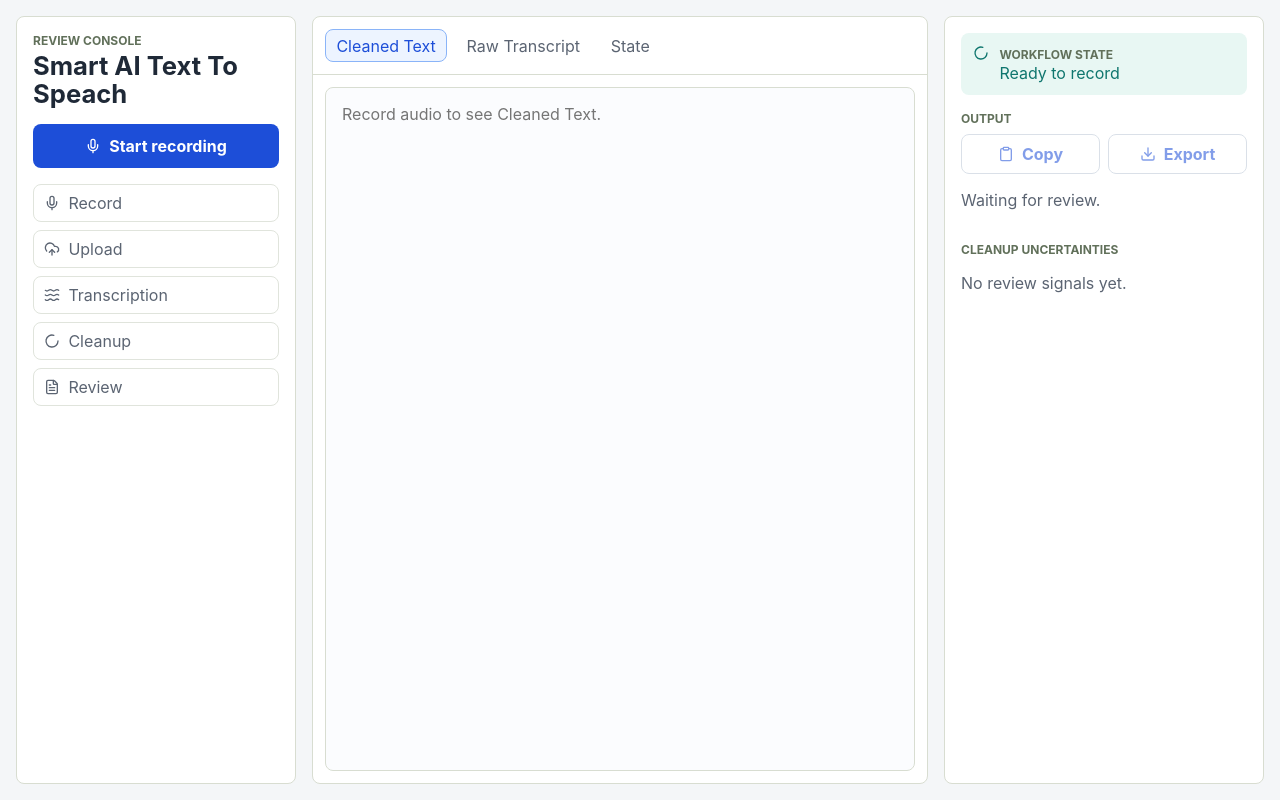
Test: requests microphone permission only on start, records with a probed MIME type, and uploads multipart audio
The width and height of the screenshot is (1280, 800).
Click the button "Start recording" at (156, 146), box [33,124,279,168]
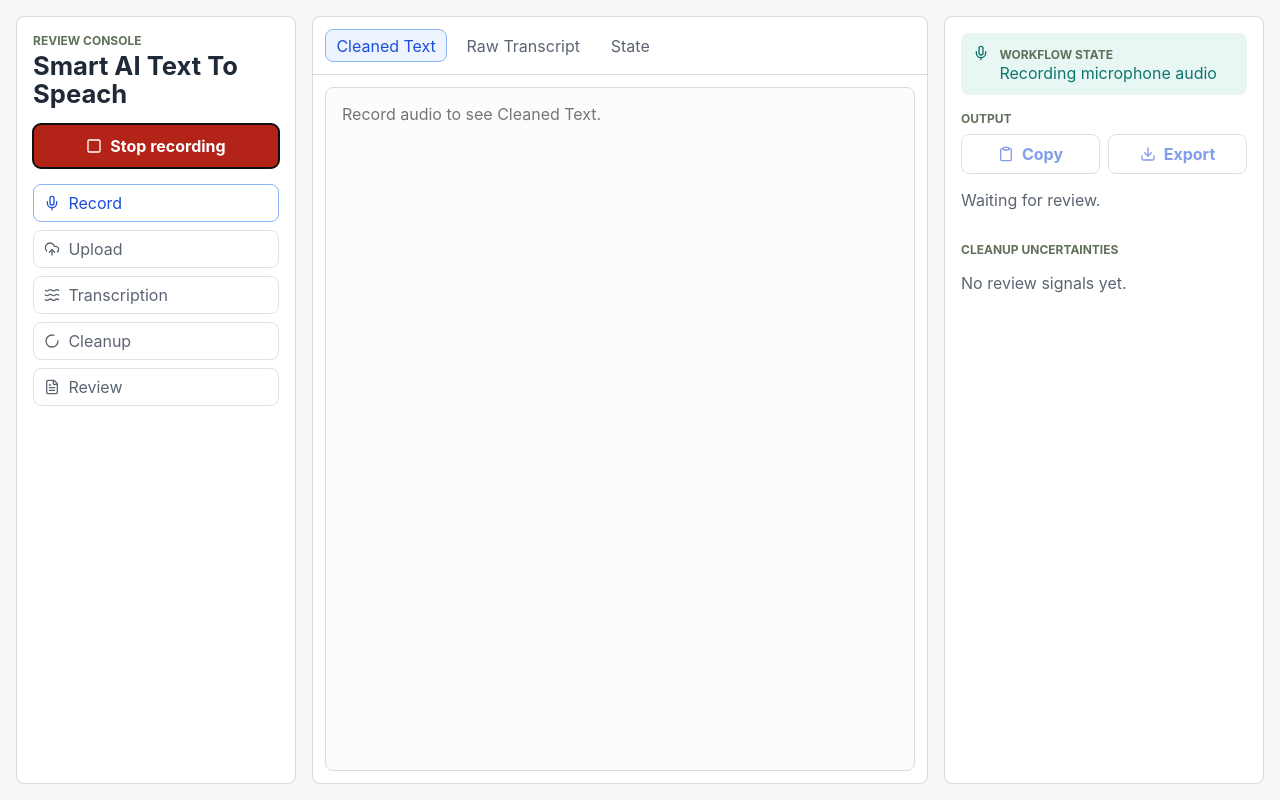
expect the text "Recording microphone audio" is shown: met, box [999,63,1217,83]
Click the button "Stop recording" at (156, 146), box [33,124,279,168]
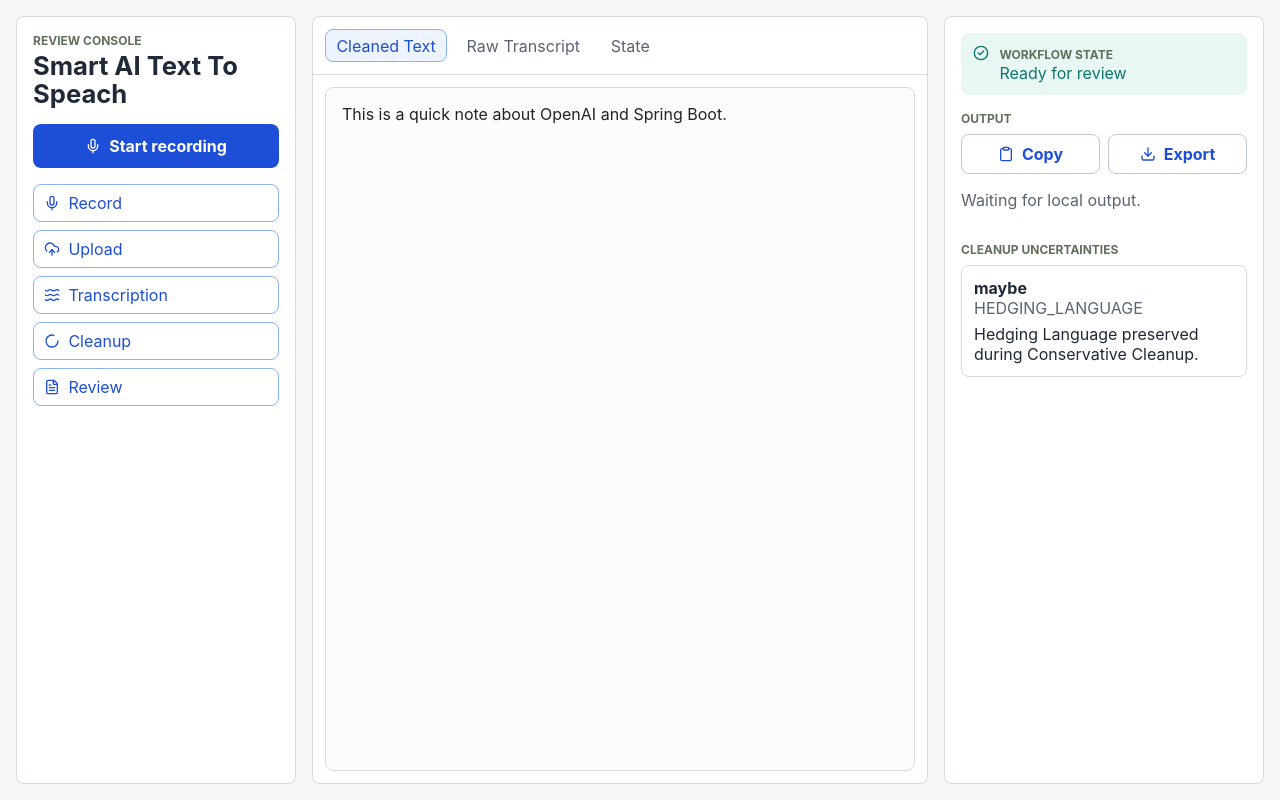
expect the text box showing "This is a quick note about OpenAI and Spring Boot." is shown: met, box [325,87,915,771]
